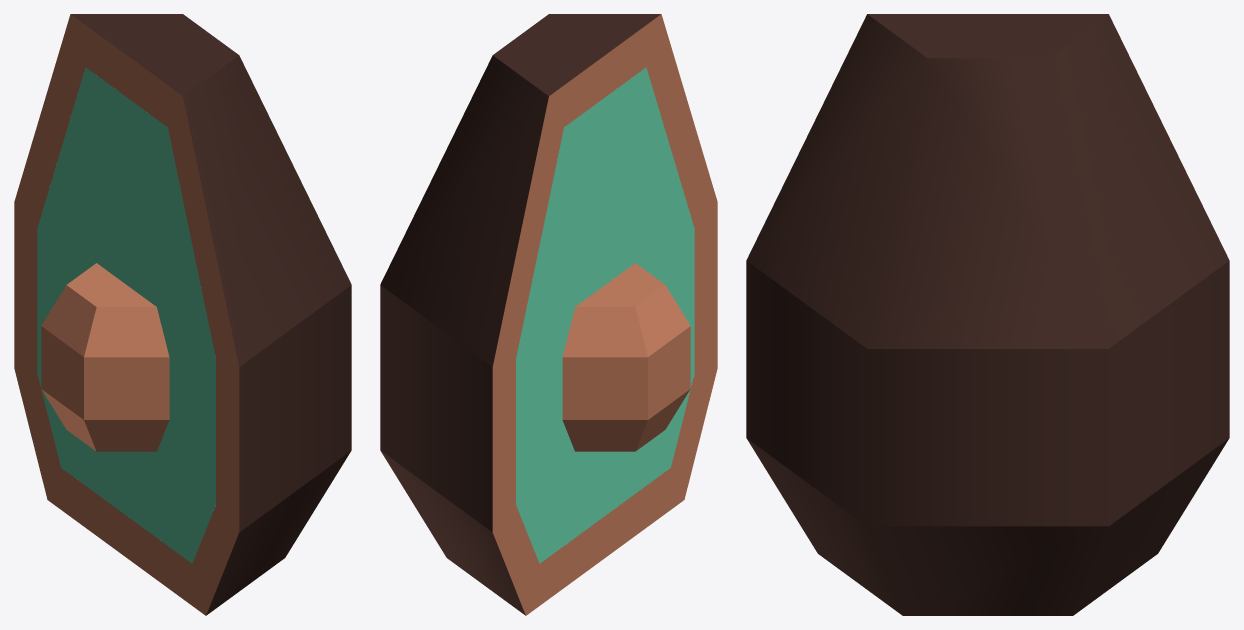
The model's file is avocado.glb.
3 renders of one model, left to right at view 1: azimuth 30°, elevation 25°; view 2: azimuth 150°, elevation 25°; view 3: azimuth 270°, elevation 25°, orthographic. The views are drawn at different scales.
Parts seen in each view (by area): view 1: avocadoHalf, pit; view 2: avocadoHalf, pit; view 3: avocadoHalf.
Boxes of the visible parts, box(x1,y1,x2,y2) form: avocadoHalf: box(14, 14, 351, 615); pit: box(41, 263, 169, 451); avocadoHalf: box(380, 14, 717, 615); pit: box(562, 263, 690, 451); avocadoHalf: box(746, 14, 1229, 615).
Size of the model in its own units: 0.1036 by 0.2137 by 0.1734.
